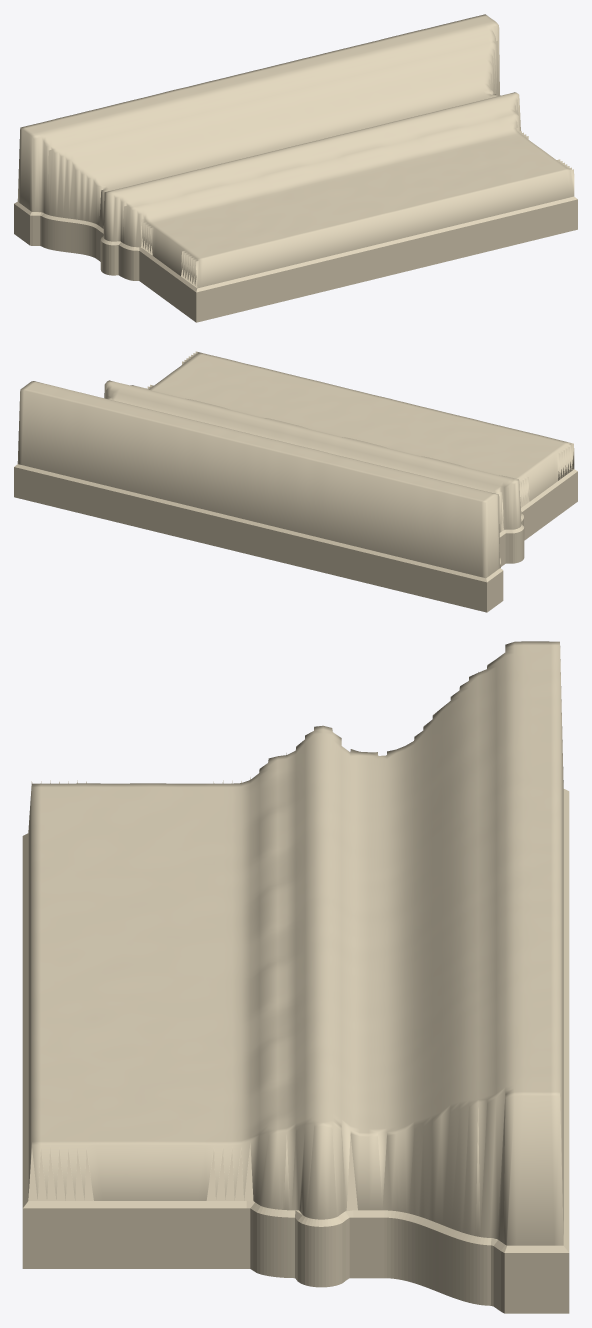
The model's file is mahsulot.glb.
3 views of the same model, one above another, from view 1: azimuth 30°, elevation 25°; view 2: azimuth 150°, elevation 25°; view 3: azimuth 270°, elevation 25° (orthographic). The views are drawn at different scales.
Visible parts, largest first — view 1: mahsulot; view 2: mahsulot; view 3: mahsulot.
Boxes of the visible parts, x1=… form: mahsulot: x1=14, y1=14, x2=577, y2=322; mahsulot: x1=14, y1=351, x2=577, y2=612; mahsulot: x1=22, y1=641, x2=569, y2=1313.
Size of the model in its own units: 0.3 by 0.0649 by 0.15.
